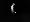person: (11, 3, 17, 17)
